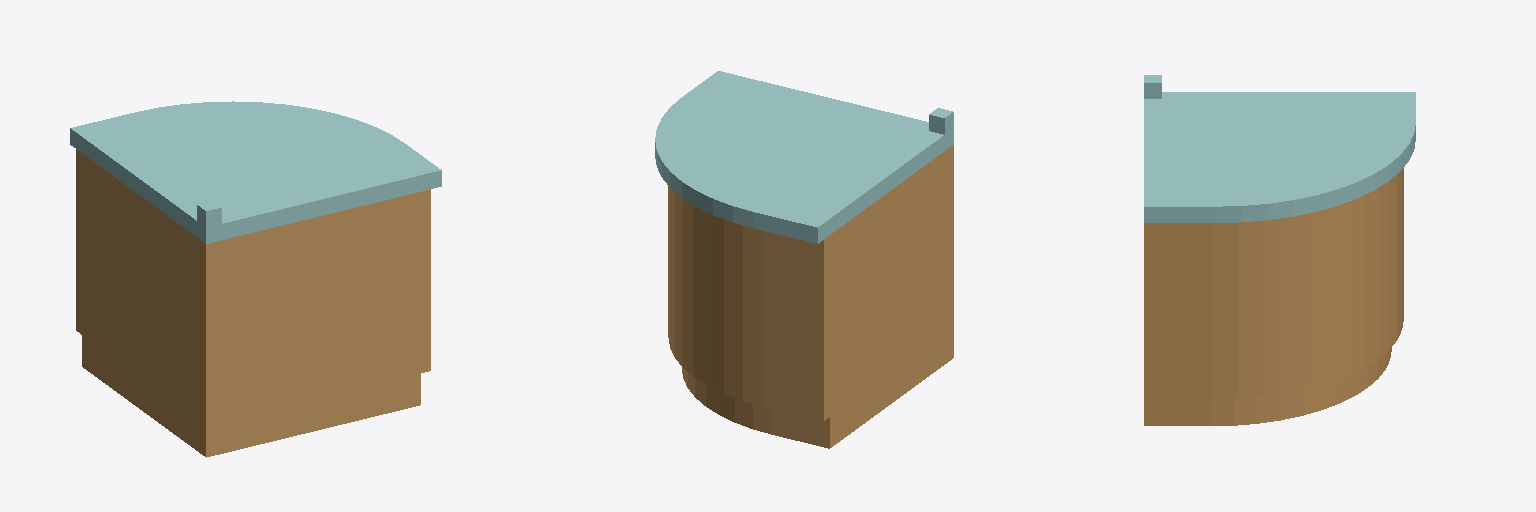
File: kitchenCabinetCornerRound.obj
3 views of the same model, side by side, from view 1: azimuth 30°, elevation 25°; view 2: azimuth 150°, elevation 25°; view 3: azimuth 270°, elevation 25° (orthographic).
Visible parts, largest first — view 1: kitchenCabinetCornerRound; view 2: kitchenCabinetCornerRound; view 3: kitchenCabinetCornerRound.
Part boxes in pixels (bbox=[...]): kitchenCabinetCornerRound: bbox=[70, 101, 441, 457]; kitchenCabinetCornerRound: bbox=[655, 71, 953, 448]; kitchenCabinetCornerRound: bbox=[1144, 75, 1415, 425].
Size of the model in its own units: 4.5 by 4.5 by 4.5.